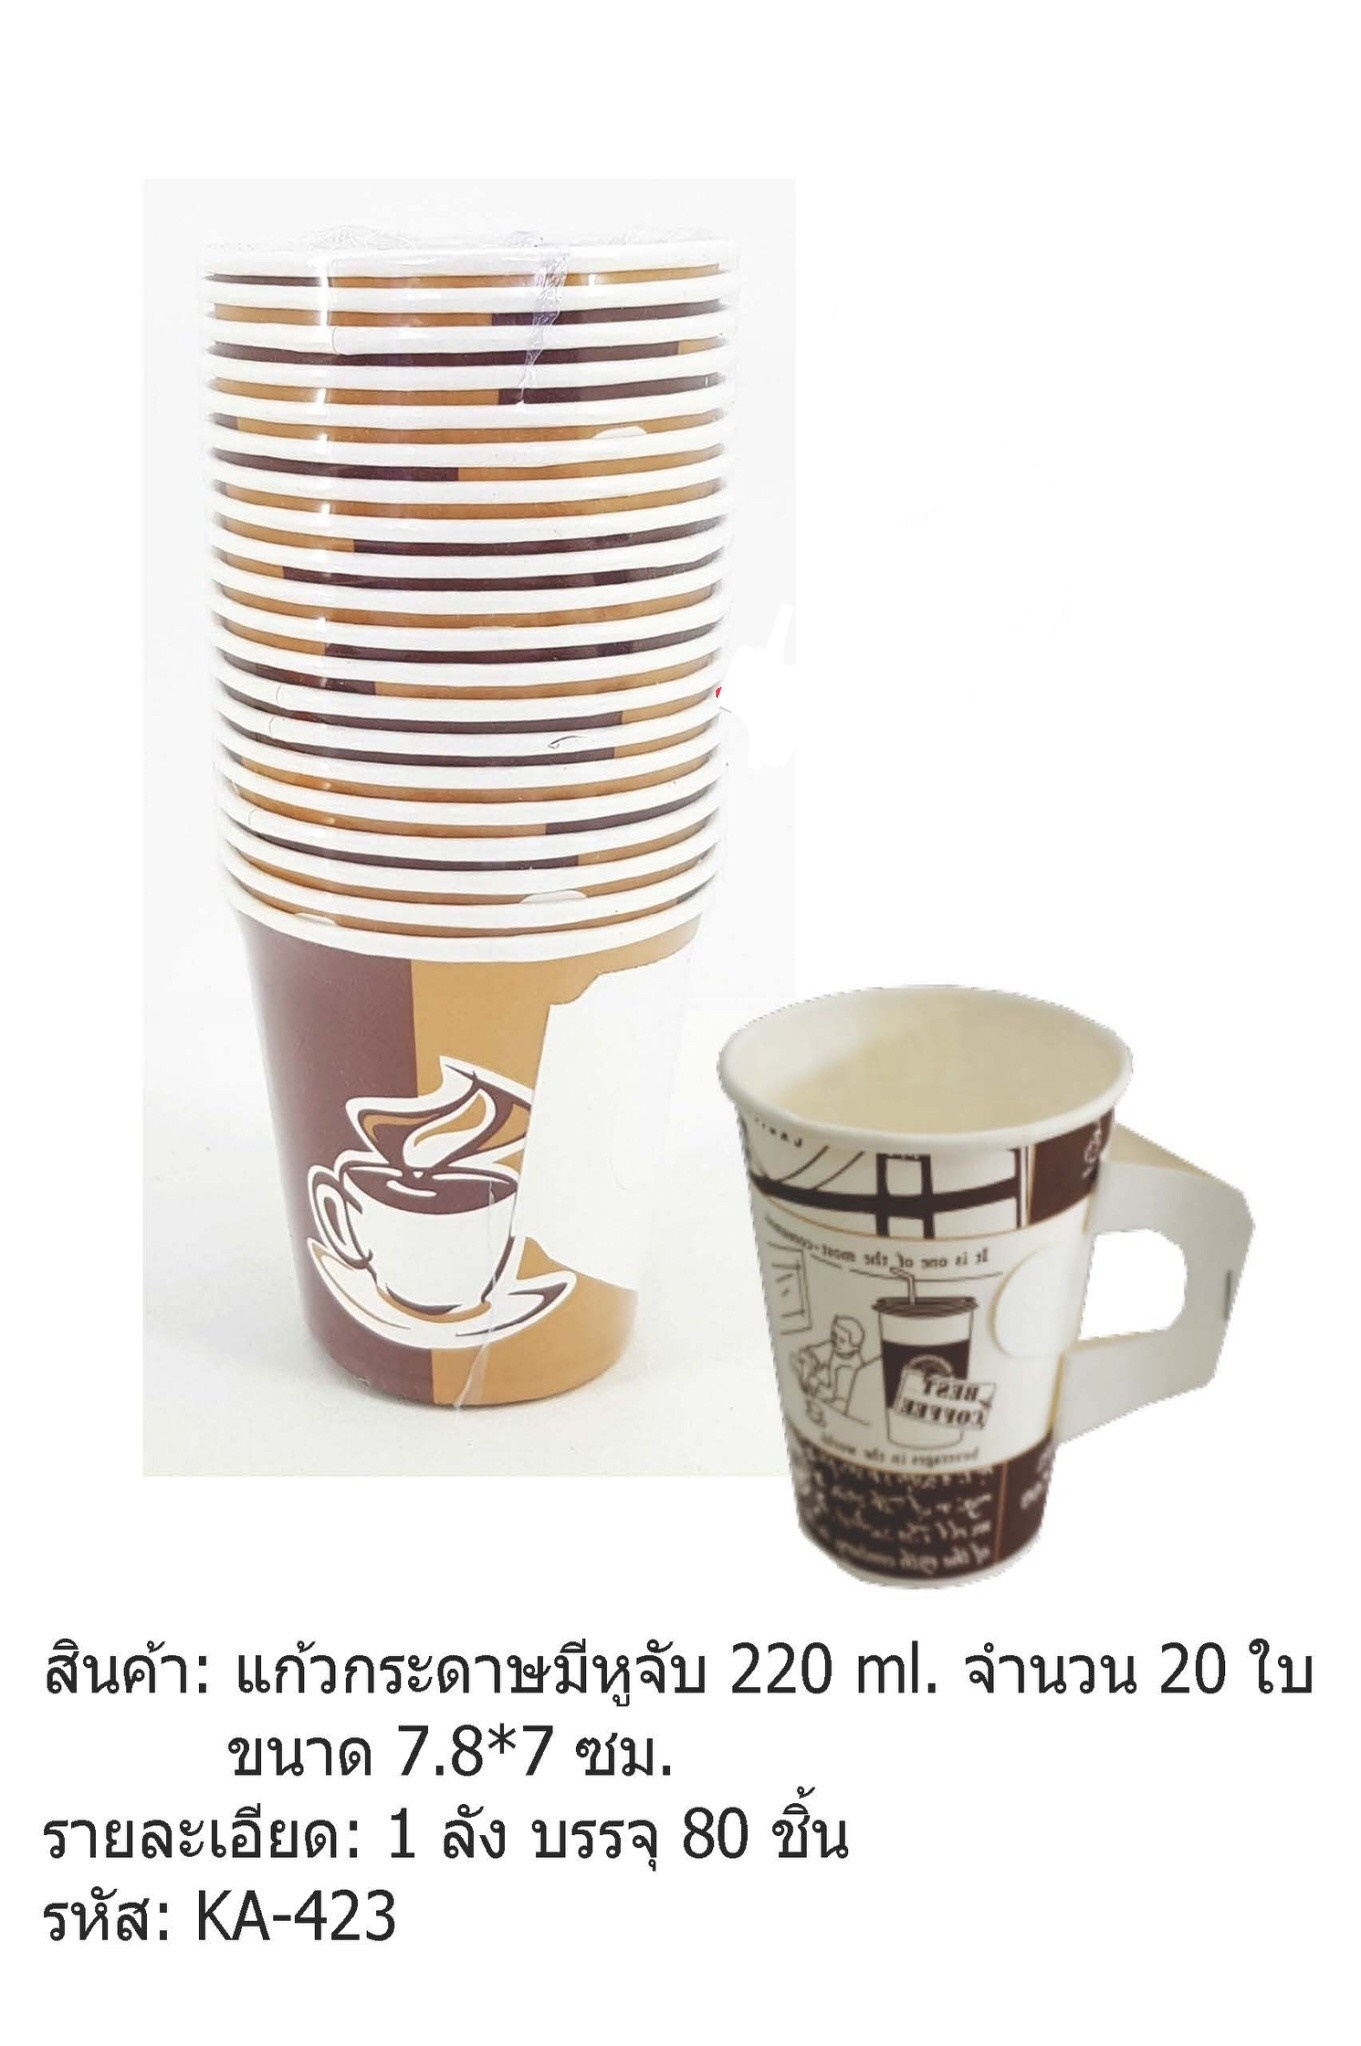PaperCup: (706, 977, 1265, 1596)
